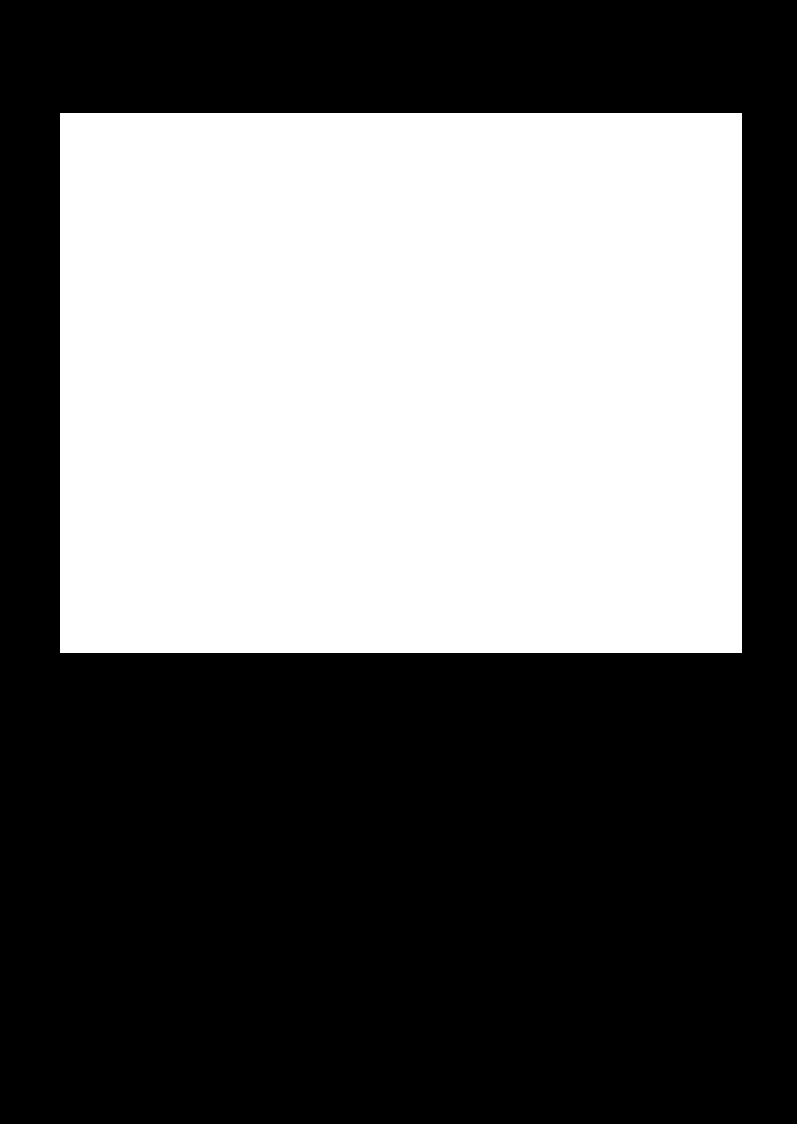table: (60, 113, 741, 652)
